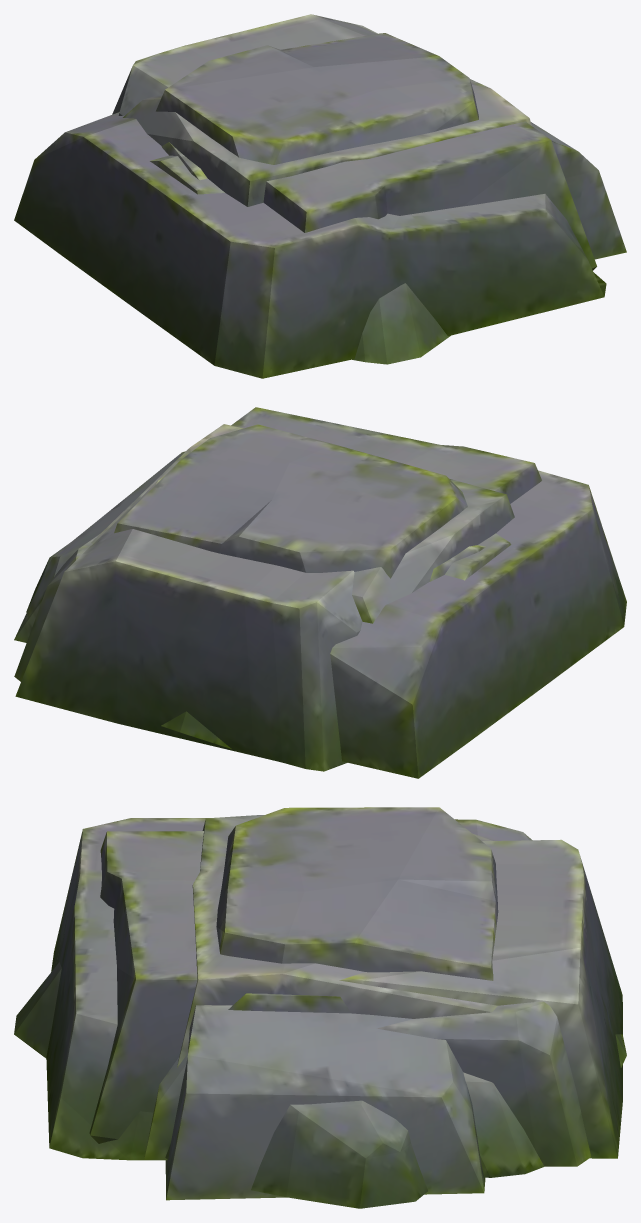
The model's file is pebble.glb.
3 renders of one model, top to bottom at view 1: azimuth 30°, elevation 25°; view 2: azimuth 150°, elevation 25°; view 3: azimuth 270°, elevation 25°, orthographic. The views are drawn at different scales.
Parts seen in each view (by area): view 1: Pebble_Square_1, Pebble_Square_4, Pebble_Square_5, Pebble_Square_3, Pebble_Square_6, Pebble_Round_3; view 2: Pebble_Square_5, Pebble_Square_1, Pebble_Square_4, Pebble_Square_3, Pebble_Square_6, Pebble_Round_4; view 3: Pebble_Square_5, Pebble_Square_4, Pebble_Square_6, Pebble_Square_1, Pebble_Round_1, Pebble_Square_3, Pebble_Round_3, Pebble_Square_2.
Part boxes in pixels (box(x1,y1,x2,y2)): Pebble_Square_1: box(14, 33, 606, 378); Pebble_Square_4: box(156, 33, 478, 164); Pebble_Square_5: box(112, 14, 596, 270); Pebble_Square_3: box(123, 79, 531, 206); Pebble_Square_6: box(150, 122, 626, 259); Pebble_Round_3: box(352, 283, 450, 364); Pebble_Square_5: box(15, 407, 541, 771); Pebble_Square_1: box(14, 470, 626, 778); Pebble_Square_4: box(114, 424, 467, 578); Pebble_Square_3: box(91, 424, 514, 623); Pebble_Square_6: box(14, 451, 511, 642); Pebble_Round_4: box(161, 711, 231, 748); Pebble_Square_5: box(89, 831, 622, 1158); Pebble_Square_4: box(216, 807, 498, 980); Pebble_Square_6: box(165, 1005, 485, 1200); Pebble_Square_1: box(46, 818, 591, 1166); Pebble_Round_1: box(165, 1100, 427, 1208); Pebble_Square_3: box(177, 815, 497, 1067); Pebble_Round_3: box(14, 962, 544, 1177); Pebble_Square_2: box(144, 993, 351, 1159).
Size of what is drawn, in the model's own units: 0.5136 by 0.1757 by 0.4941.
Materials: 1 (1 with a texture image).
